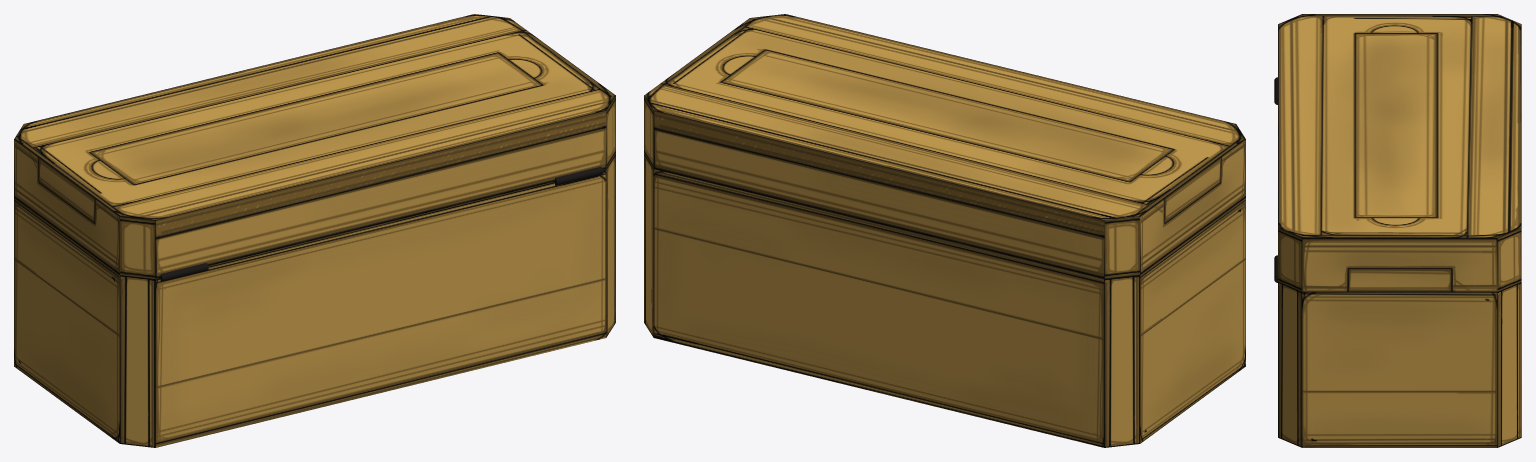
The model's file is chest.fbx.
3 renders of one model, left to right at view 1: azimuth 30°, elevation 25°; view 2: azimuth 150°, elevation 25°; view 3: azimuth 270°, elevation 25°, orthographic. The views are drawn at different scales.
Visible parts, largest first — view 1: Cube, Cube.001, Cylinder; view 2: Cube, Cube.001; view 3: Cube.001, Cube.
Part boxes in pixels (left/top/right/bottom): Cube: left=14, top=154, right=615, bottom=447; Cube.001: left=14, top=14, right=615, bottom=278; Cylinder: left=159, top=166, right=603, bottom=281; Cube: left=644, top=154, right=1245, bottom=447; Cube.001: left=644, top=14, right=1245, bottom=278; Cube.001: left=1278, top=14, right=1521, bottom=291; Cube: left=1278, top=282, right=1521, bottom=447.
Bounding box in the file's own units: 161 × 70.62 × 75.31.
